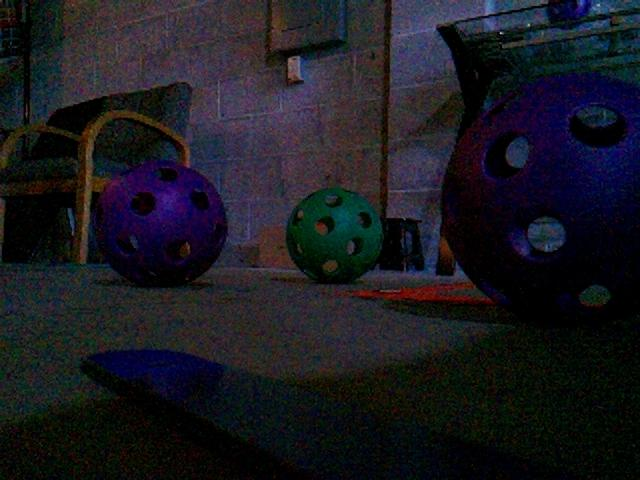Green: (284, 186, 384, 283)
Purple: (440, 73, 640, 320), (92, 162, 227, 285)
